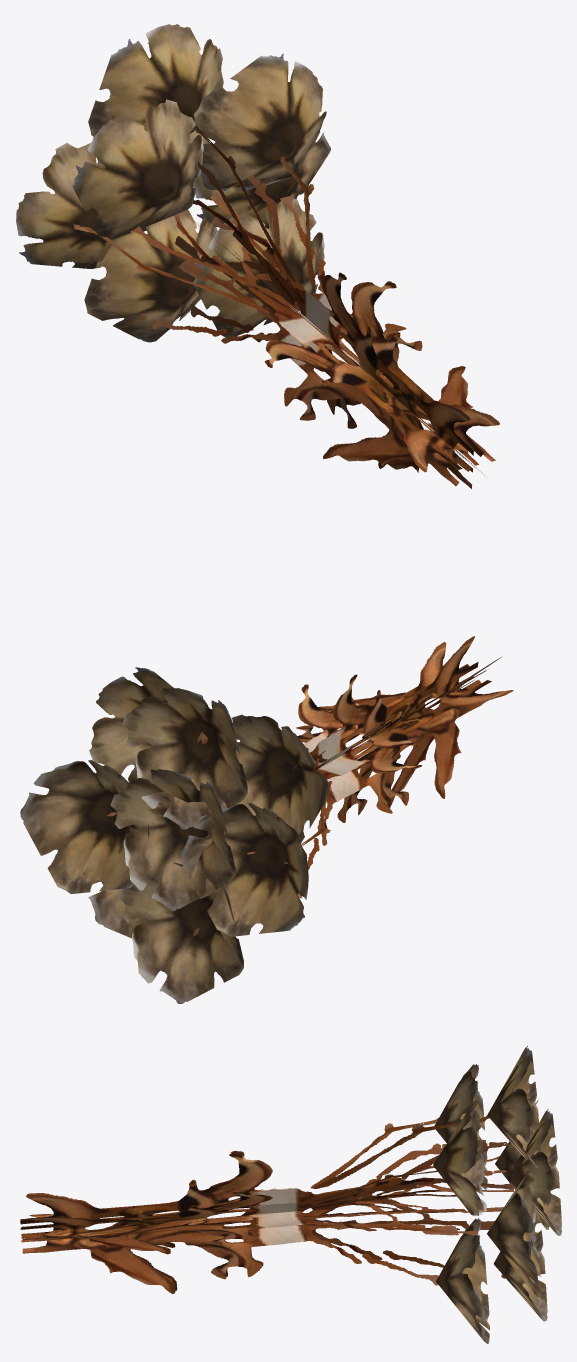
Rendered from flowersbunchdead02.obj.
The picture shows the model from 3 angles, top to bottom: view 1: azimuth 30°, elevation 25°; view 2: azimuth 150°, elevation 25°; view 3: azimuth 270°, elevation 25°; orthographic projection. The views are drawn at different scales.
Parts seen in each view (by area): view 1: flowersbunchdead02; view 2: flowersbunchdead02; view 3: flowersbunchdead02.
Boxes of the visible parts, bbox=[...] form: flowersbunchdead02: bbox=[16, 24, 499, 488]; flowersbunchdead02: bbox=[20, 636, 513, 1004]; flowersbunchdead02: bbox=[20, 1046, 561, 1343].
Bounding box in the file's own units: 0.4518 × 0.4512 × 0.83.
Materials: 1 (1 with a texture image).
